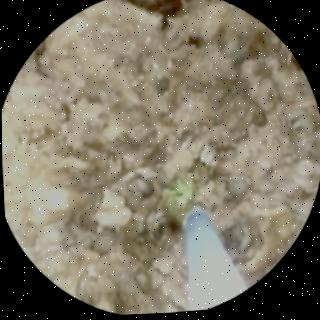fiber: (187, 215, 242, 310)
laser: (176, 181, 192, 202)
stone: (2, 0, 320, 313)
